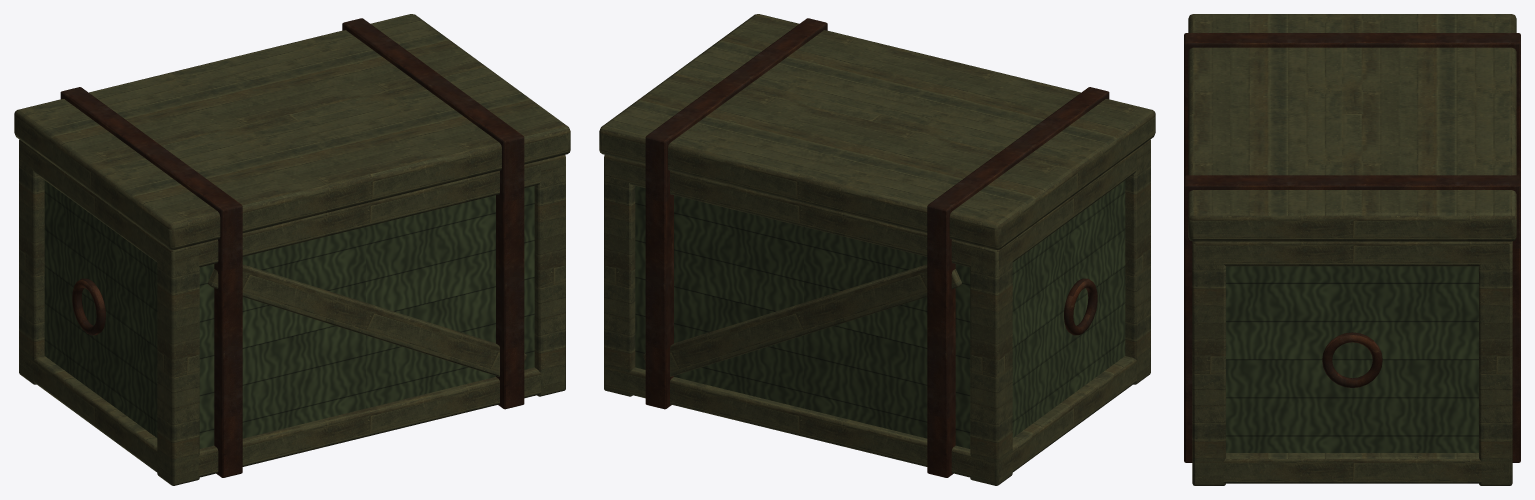
File: crate_military.glb
3 renders of one model, left to right at view 1: azimuth 30°, elevation 25°; view 2: azimuth 150°, elevation 25°; view 3: azimuth 270°, elevation 25°, orthographic. The views are drawn at different scales.
Parts seen in each view (by area): view 1: CrateMilitary; view 2: CrateMilitary; view 3: CrateMilitary.
Part boxes in pixels (x1,y1,x2,y2): CrateMilitary: (14,14,570,485); CrateMilitary: (599,14,1155,485); CrateMilitary: (1184,14,1520,485).
Size of the model in its own units: 1.18 by 0.73 by 0.8.
Materials: 3 (3 with a texture image).
